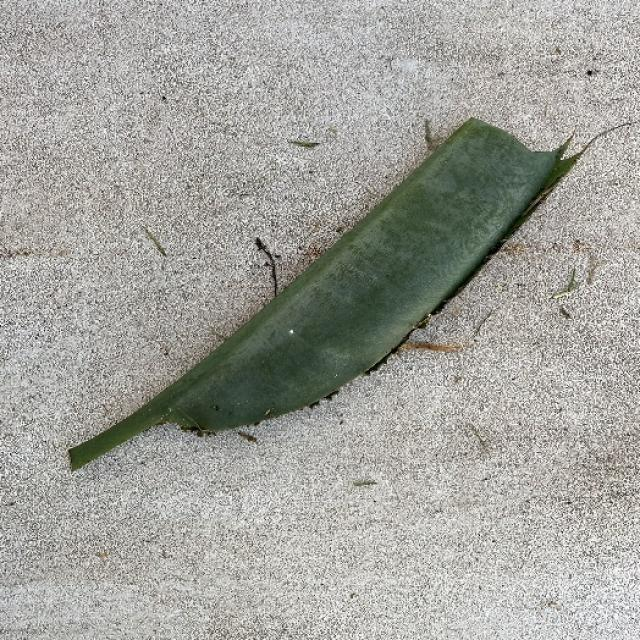organik: (93, 115, 586, 495)
